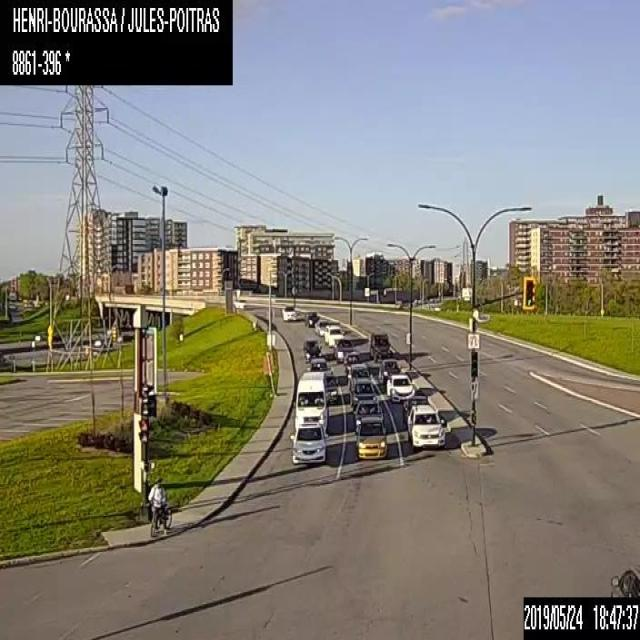cyclist: (147, 477, 173, 535)
vehicle: (294, 371, 328, 433), (289, 422, 328, 463), (408, 406, 444, 448), (355, 416, 387, 458), (352, 400, 383, 433), (608, 564, 639, 596), (348, 363, 372, 402), (351, 376, 377, 409), (386, 373, 414, 401), (402, 394, 428, 424), (369, 330, 391, 361), (333, 338, 356, 362), (378, 358, 399, 382), (302, 338, 322, 362), (324, 324, 344, 346), (344, 352, 362, 371), (325, 378, 338, 404), (306, 356, 326, 371), (304, 310, 319, 327), (314, 319, 328, 335), (282, 304, 295, 320), (320, 367, 333, 380), (232, 296, 246, 308)
